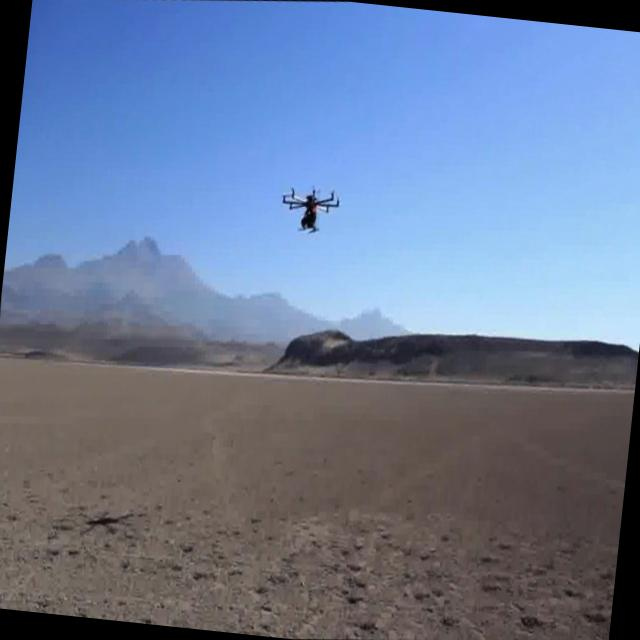drone: (274, 175, 345, 242)
